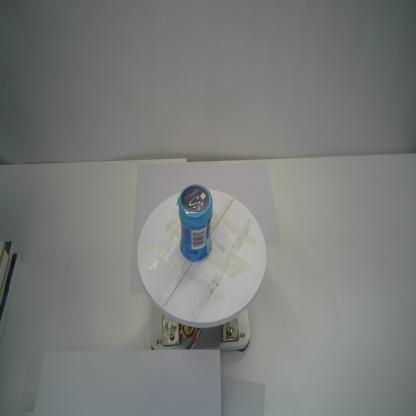Gum: (176, 183, 214, 262)
